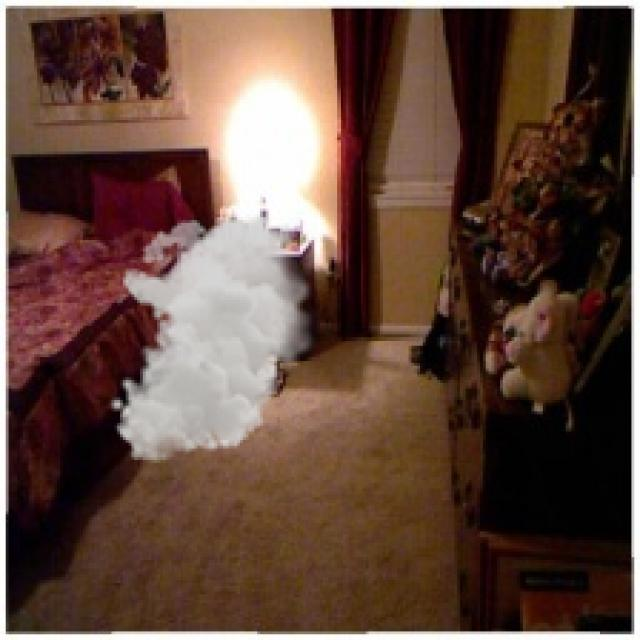smoke: (109, 211, 320, 463)
